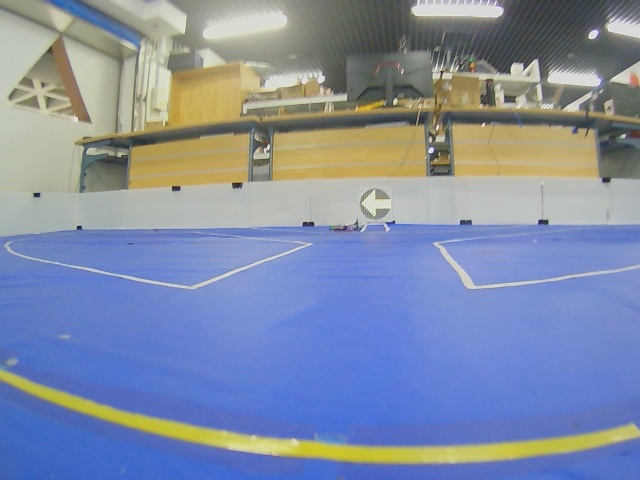left_yellow: (360, 188, 391, 221)
